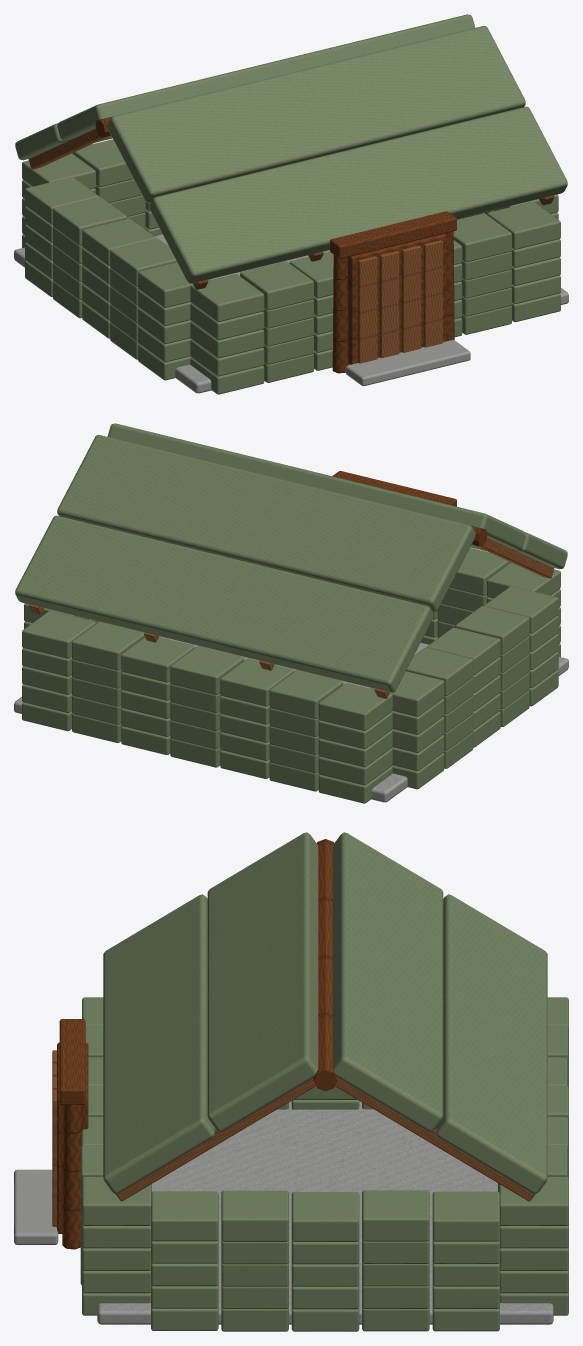
File: viking-age-longhouse-and-longship-turf-pit-house-0d532fe1__30175.glb
3 renders of one model, top to bottom at view 1: azimuth 30°, elevation 25°; view 2: azimuth 150°, elevation 25°; view 3: azimuth 270°, elevation 25°, orthographic. The views are drawn at different scales.
Visible parts, largest first — view 1: turf-pit-house; view 2: turf-pit-house; view 3: turf-pit-house.
Part boxes in pixels (left/top/right/bottom): turf-pit-house: left=14, top=14, right=568, bottom=394; turf-pit-house: left=14, top=423, right=568, bottom=803; turf-pit-house: left=14, top=832, right=568, bottom=1331.
Bounding box in the file's own units: 4.35 × 2.27 × 4.26.
4 materials, 4 textured.
